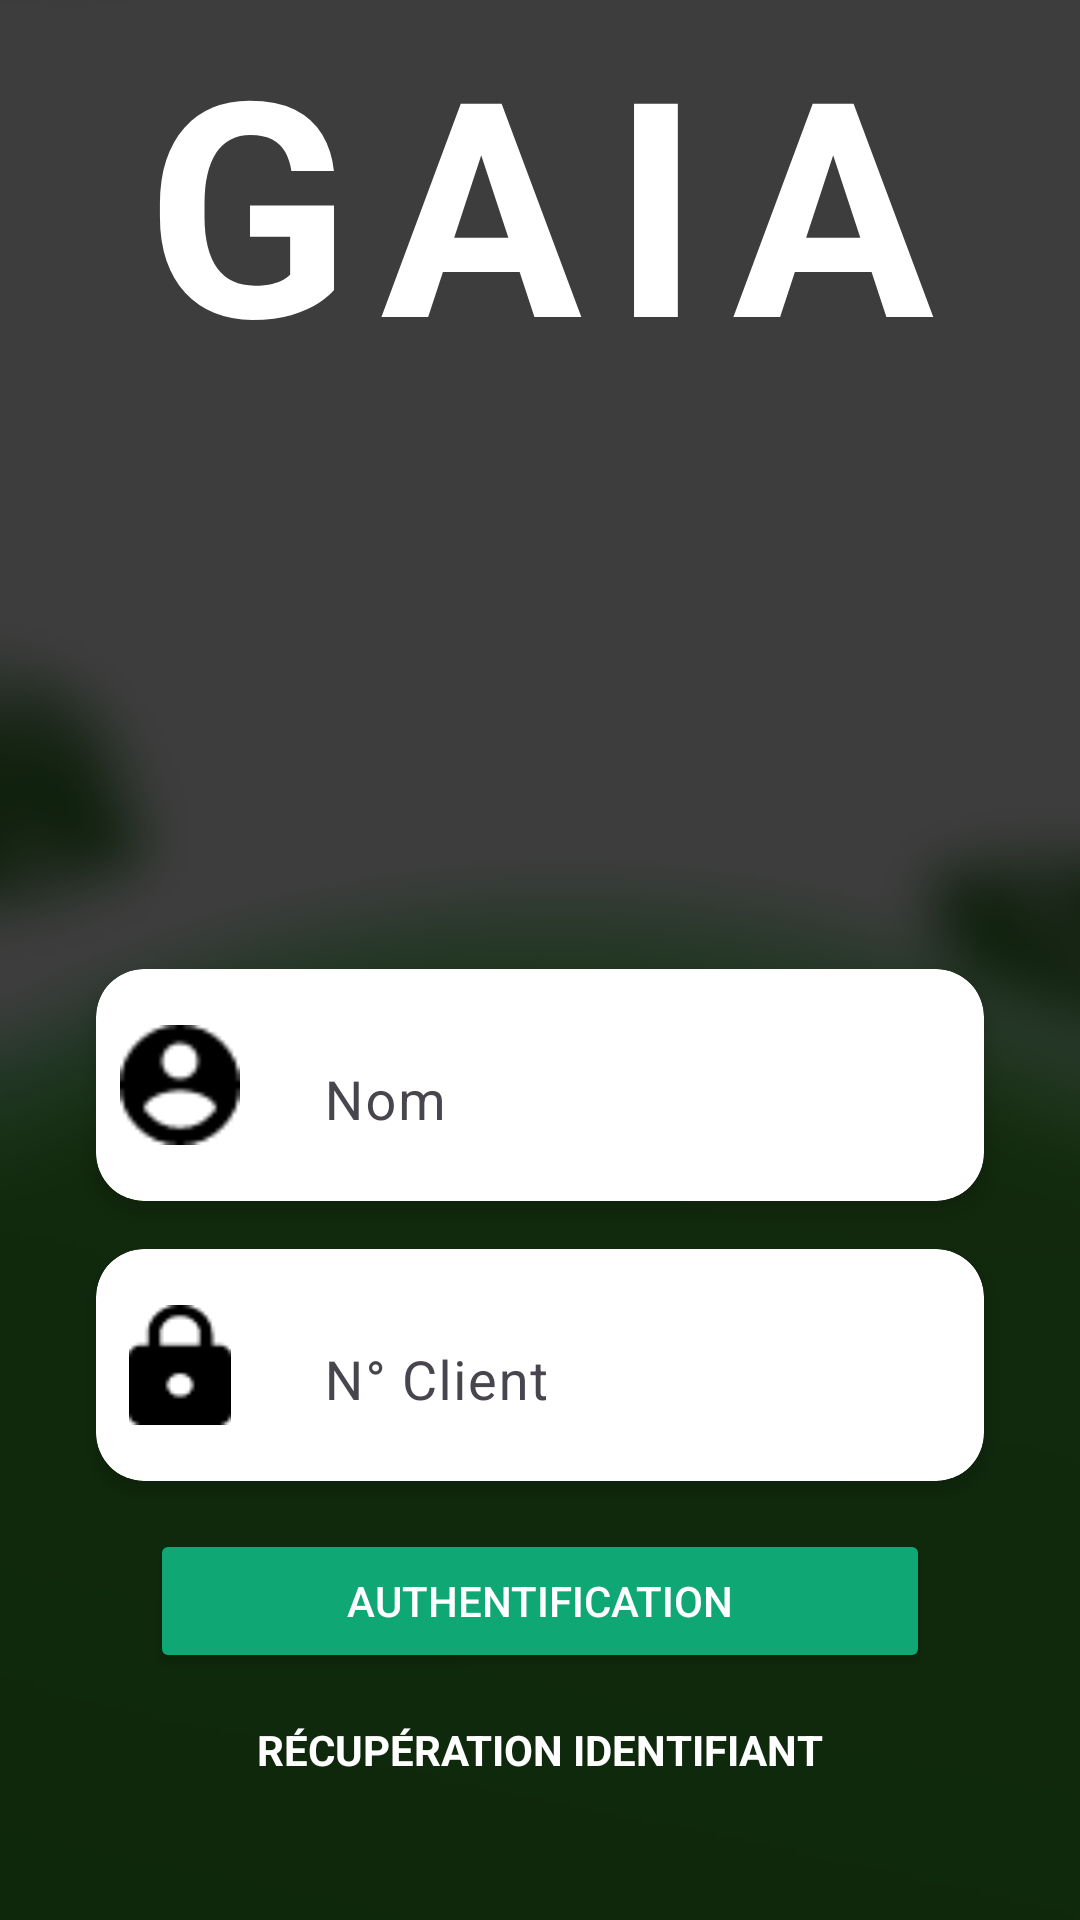

Locate icon controls on the screen. Image size 1080px×1920px, boxes as detection(x1, y1, x2, y2).
accountwhite: detection(120, 1025, 240, 1145)
lockwhite: detection(129, 1305, 231, 1425)
